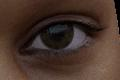eye: (41, 23, 74, 50)
